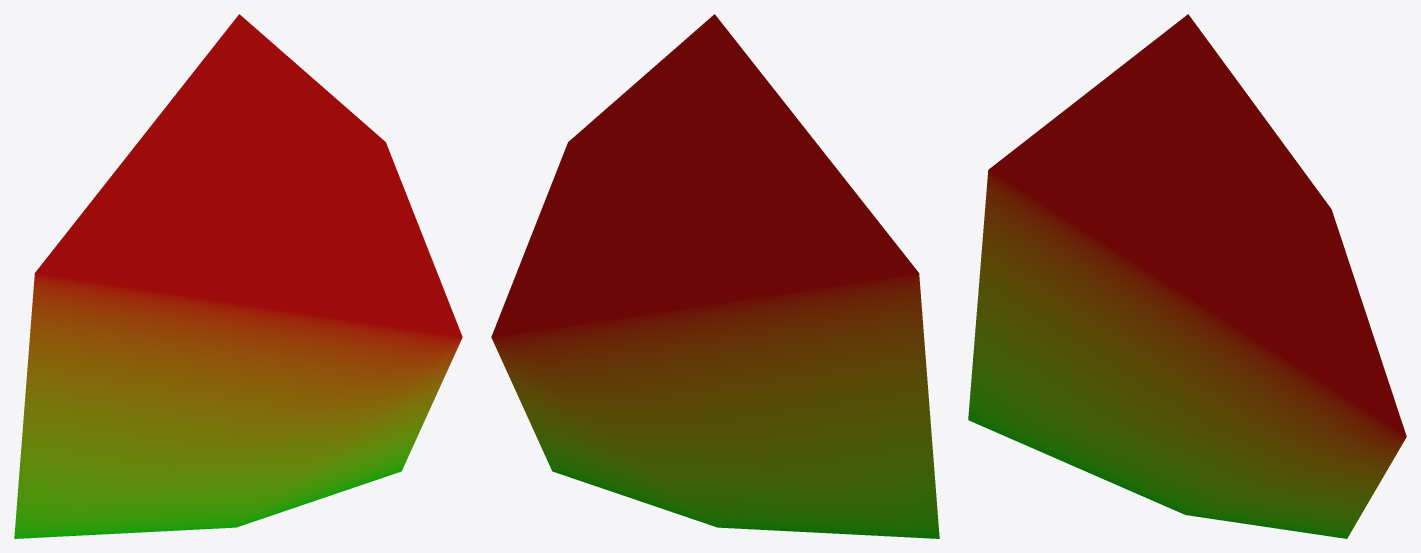
File: Var4_LOD4.fbx
3 views of the same model, side by side, from view 1: azimuth 30°, elevation 25°; view 2: azimuth 150°, elevation 25°; view 3: azimuth 330°, elevation 25° (orthographic). The views are drawn at different scales.
Parts seen in each view (by area): view 1: _47dd_Var4_LOD4; view 2: _47dd_Var4_LOD4; view 3: _47dd_Var4_LOD4.
Part boxes in pixels (x1,y1,x2,y2): _47dd_Var4_LOD4: (14, 14, 462, 538); _47dd_Var4_LOD4: (491, 14, 939, 538); _47dd_Var4_LOD4: (968, 14, 1406, 538).
Size of the model in its own units: 28.24 by 30.87 by 1.79e-06.
